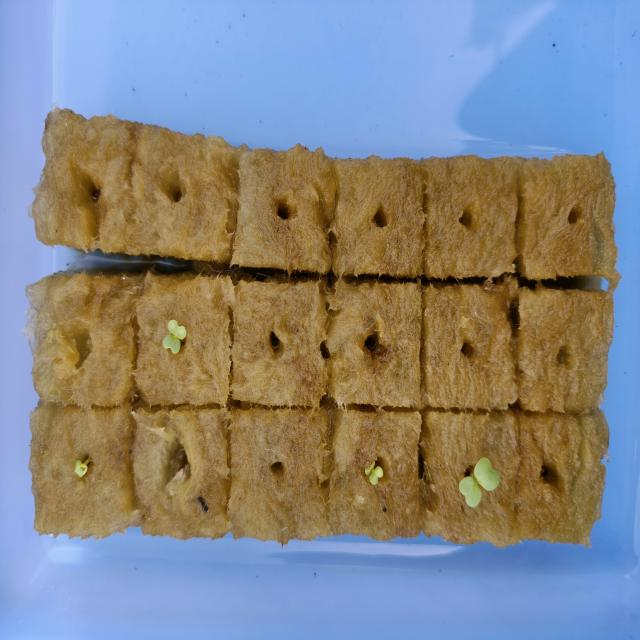daun-pakcoy: (474, 457, 499, 490), (459, 475, 482, 507), (71, 459, 96, 481), (364, 461, 383, 484), (167, 319, 186, 339), (162, 334, 180, 354), (364, 461, 375, 475)
